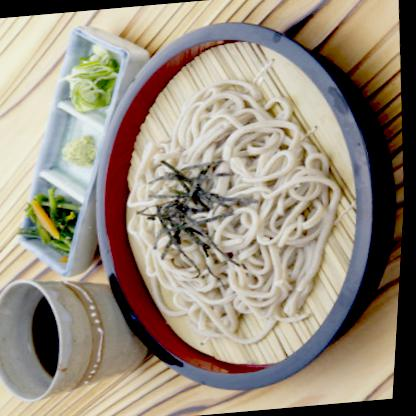memil soba: (106, 75, 351, 343)
